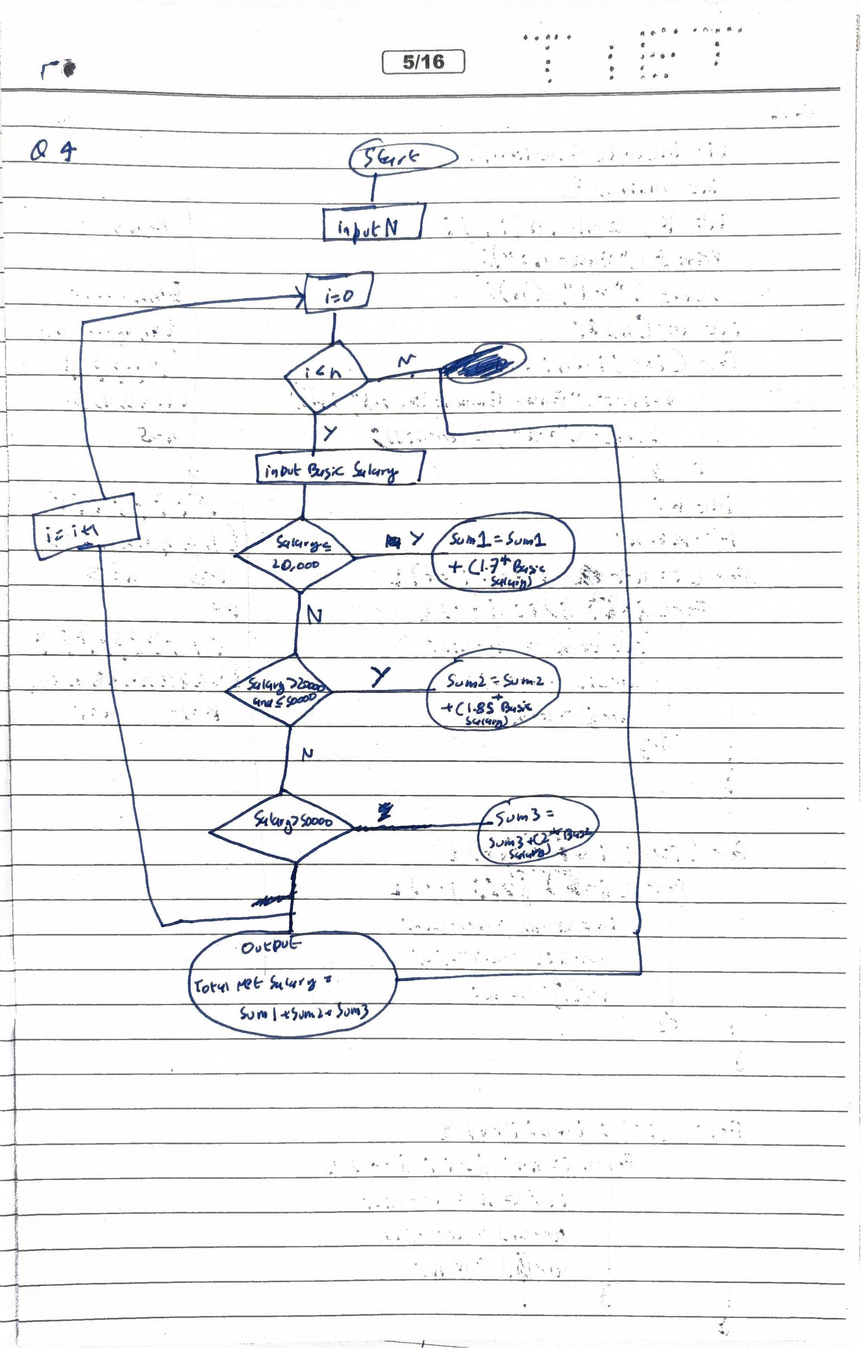cuttings: (441, 341, 529, 386), (250, 889, 299, 908), (376, 801, 394, 823), (385, 534, 401, 550)
